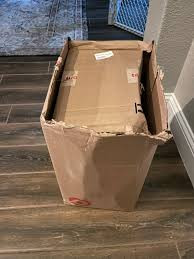damaged package: (40, 37, 72, 122), (134, 43, 162, 139)
